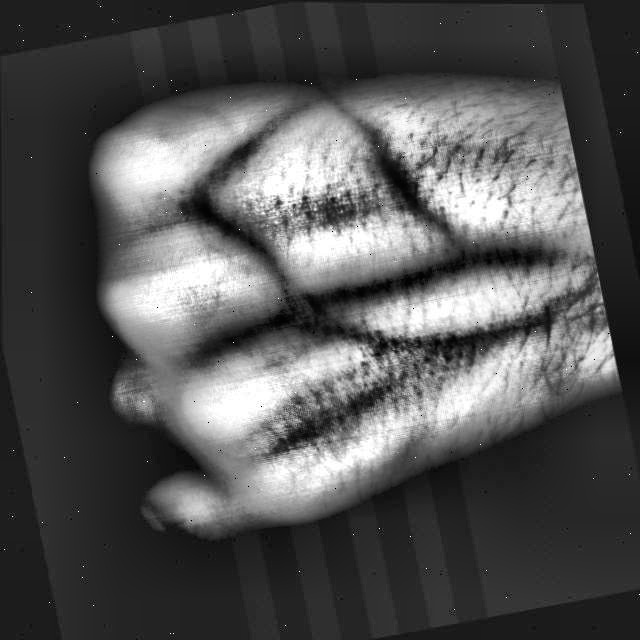Vein: (320, 231, 566, 311)
